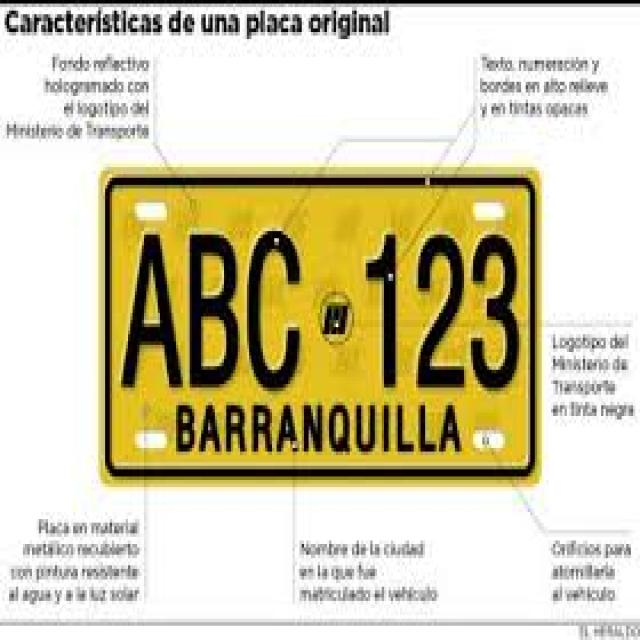number plate: (103, 174, 530, 469)
